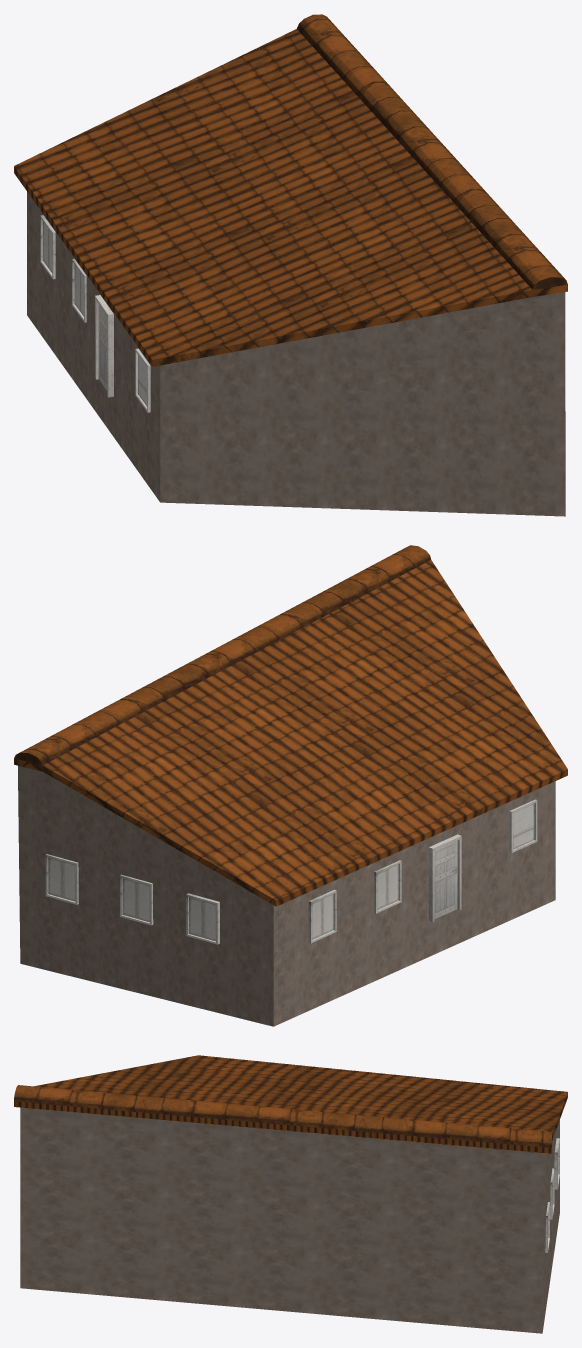
Rendered from Casa_5.fbx.
The picture shows the model from 3 angles, top to bottom: view 1: azimuth 30°, elevation 25°; view 2: azimuth 150°, elevation 25°; view 3: azimuth 270°, elevation 25°; orthographic projection. The views are drawn at different scales.
Visible parts, largest first — view 1: Casa_5; view 2: Casa_5; view 3: Casa_5.
Part boxes in pixels (<box>): Casa_5: <box>14,14,567,516</box>; Casa_5: <box>14,545,567,1026</box>; Casa_5: <box>14,1055,567,1333</box>.
Bounding box in the file's own units: 10.17 × 6.19 × 15.4.
